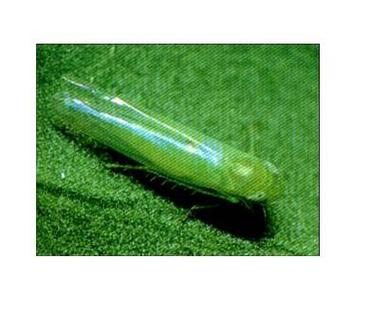Cicadellidae: (49, 75, 288, 215)
